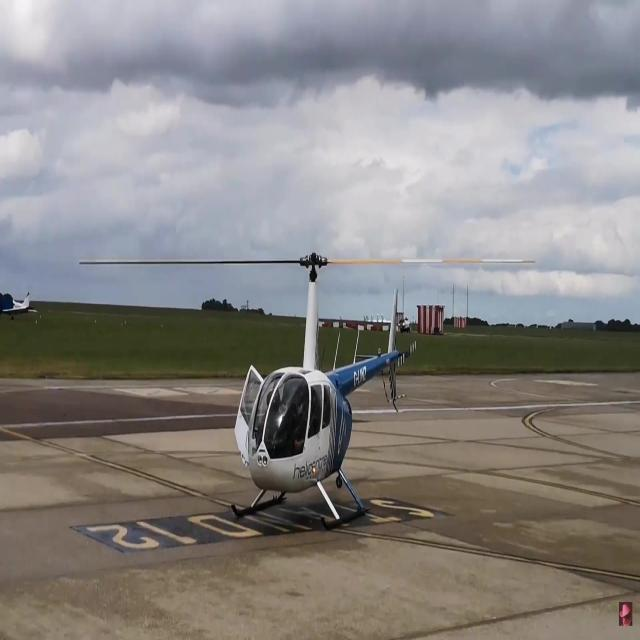CIV_HELO: (235, 249, 412, 534)
